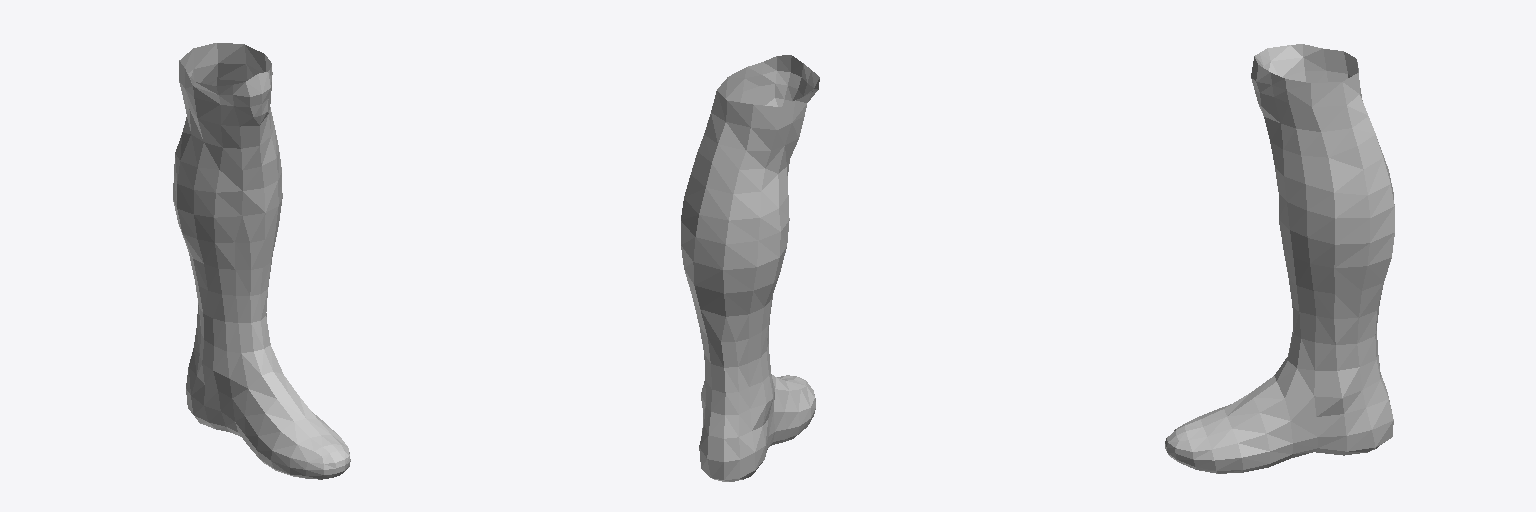
Rendered from RightFoot.obj.
The picture shows the model from 3 angles: view 1: azimuth 30°, elevation 25°; view 2: azimuth 150°, elevation 25°; view 3: azimuth 270°, elevation 25°; orthographic projection.
Parts seen in each view (by area): view 1: Model001_22_legs_0_6_75_75_foot_leg ankle left polySurface1; view 2: Model001_22_legs_0_6_75_75_foot_leg ankle left polySurface1; view 3: Model001_22_legs_0_6_75_75_foot_leg ankle left polySurface1.
Part boxes in pixels (bbox=[...]): Model001_22_legs_0_6_75_75_foot_leg ankle left polySurface1: bbox=[173, 43, 350, 479]; Model001_22_legs_0_6_75_75_foot_leg ankle left polySurface1: bbox=[681, 55, 819, 481]; Model001_22_legs_0_6_75_75_foot_leg ankle left polySurface1: bbox=[1165, 44, 1394, 473].
Bounding box in the file's own units: 0.1811 × 0.6025 × 0.3235.